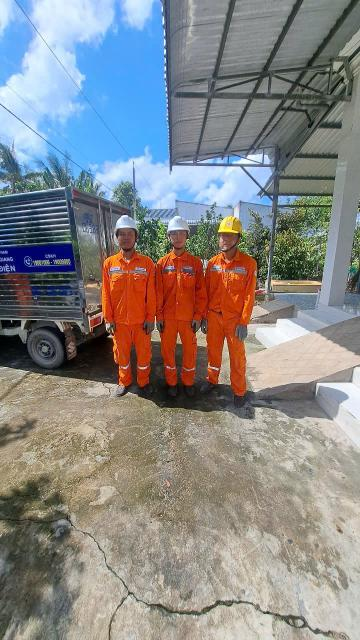gloves: (103, 315, 117, 338), (236, 326, 254, 343), (140, 321, 156, 337), (191, 316, 202, 335), (156, 318, 168, 333), (201, 318, 208, 335)
helmet: (107, 207, 154, 237), (160, 213, 199, 235), (213, 210, 241, 239)
shoes: (107, 377, 133, 400), (163, 376, 187, 399), (141, 379, 165, 400), (199, 378, 220, 398), (183, 380, 203, 398), (235, 394, 253, 410)
